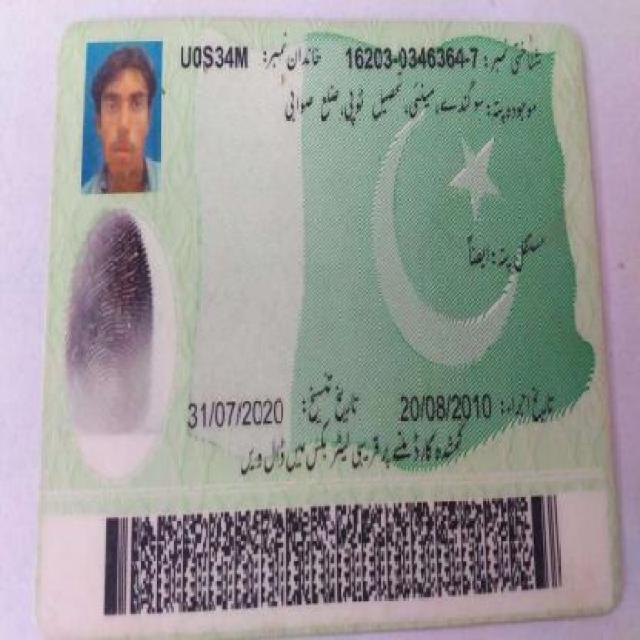Back: (42, 11, 610, 609)
